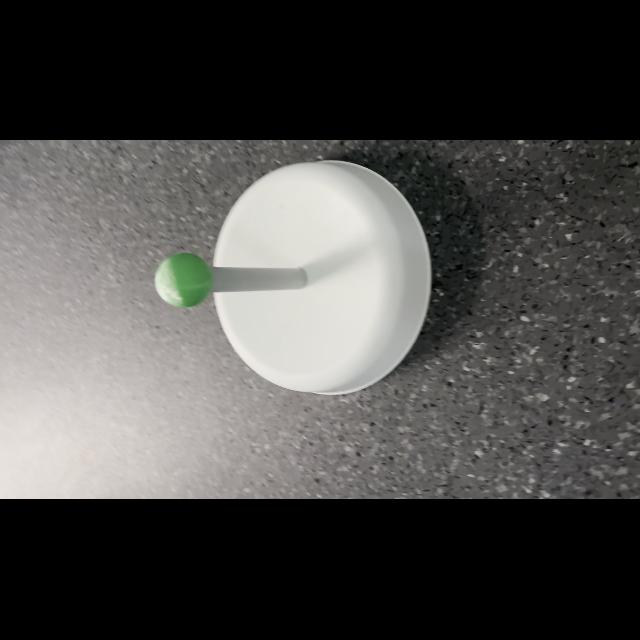objects: (148, 247, 216, 311)
